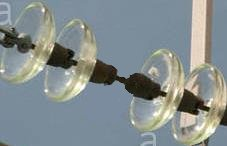gap: (41, 16, 187, 132)
